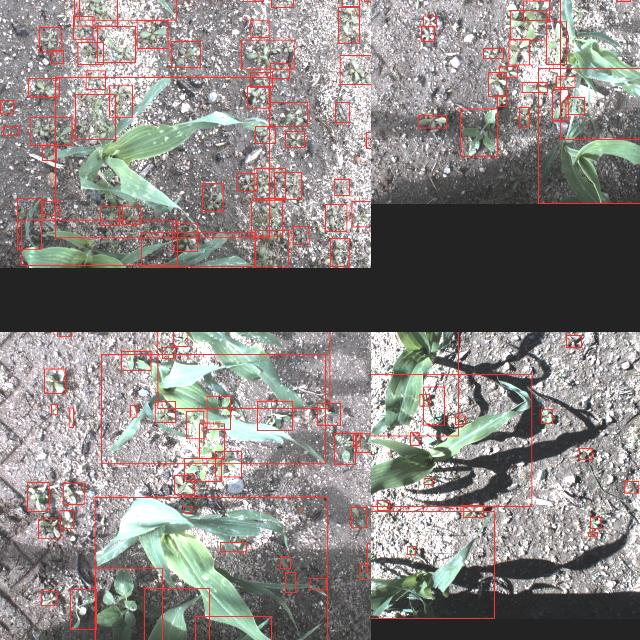crop: (55, 76, 269, 238), (95, 496, 327, 640), (101, 353, 325, 463), (371, 374, 531, 506), (538, 68, 640, 203), (371, 510, 494, 617), (158, 332, 330, 407), (560, 0, 640, 138), (371, 332, 458, 435), (21, 219, 177, 265), (142, 232, 255, 266), (144, 587, 210, 640), (79, 0, 176, 19), (195, 616, 271, 640), (17, 198, 41, 248)
weed: (95, 567, 162, 640), (460, 108, 498, 156), (75, 94, 115, 138), (242, 40, 294, 68), (97, 26, 135, 62), (30, 117, 72, 145), (256, 230, 288, 266), (252, 200, 282, 236), (511, 10, 547, 40), (74, 0, 117, 25), (70, 589, 96, 629), (258, 400, 292, 430), (254, 168, 286, 198), (268, 102, 308, 126), (340, 54, 371, 83), (136, 20, 168, 48), (546, 21, 566, 64), (184, 458, 222, 480), (207, 395, 231, 429), (200, 424, 224, 458), (274, 172, 302, 200), (424, 386, 444, 424), (338, 6, 359, 42), (172, 223, 198, 251), (172, 41, 200, 67), (110, 85, 132, 116), (334, 432, 356, 463), (27, 482, 49, 511), (215, 452, 241, 476), (121, 350, 151, 370), (325, 203, 347, 230), (39, 26, 61, 52), (78, 42, 104, 64), (508, 38, 530, 64), (29, 77, 59, 96), (203, 183, 223, 211), (330, 238, 350, 266), (44, 368, 66, 392), (351, 201, 371, 227), (523, 0, 549, 20), (186, 410, 204, 438), (248, 86, 270, 108), (318, 403, 340, 425), (552, 90, 568, 120), (62, 482, 84, 503), (488, 72, 507, 96), (73, 16, 93, 38), (38, 518, 60, 538), (155, 401, 175, 422), (86, 70, 106, 90), (100, 205, 120, 225), (237, 173, 257, 191), (255, 126, 275, 144), (174, 476, 194, 494), (418, 115, 447, 127), (122, 206, 140, 224), (566, 96, 584, 114), (285, 131, 305, 147), (270, 62, 290, 78), (250, 72, 272, 86), (251, 19, 269, 36), (352, 507, 366, 528), (293, 226, 309, 244), (356, 432, 371, 451), (335, 102, 349, 122), (42, 200, 59, 216), (220, 542, 247, 552), (334, 179, 350, 195), (41, 590, 57, 606), (522, 82, 546, 92), (463, 505, 483, 517), (59, 510, 72, 528), (42, 144, 56, 160), (556, 76, 574, 88), (483, 48, 503, 58), (519, 107, 529, 127), (286, 572, 296, 592), (0, 100, 14, 114), (173, 332, 188, 345), (310, 578, 326, 590), (566, 335, 582, 347), (499, 66, 517, 76), (359, 564, 371, 579), (51, 49, 63, 63), (422, 26, 434, 40), (625, 481, 639, 493), (3, 126, 19, 136), (162, 347, 175, 358), (578, 448, 592, 458), (542, 408, 552, 422), (424, 16, 436, 27), (68, 407, 74, 427), (280, 556, 290, 568), (590, 518, 602, 528), (377, 500, 389, 510), (410, 432, 420, 444), (420, 393, 430, 405), (498, 94, 507, 106), (342, 0, 359, 6), (455, 414, 465, 424), (354, 432, 361, 446), (130, 404, 138, 416), (366, 132, 371, 148), (407, 546, 415, 554), (51, 404, 57, 414), (423, 478, 432, 484), (184, 506, 192, 512), (58, 332, 72, 335), (588, 532, 598, 536)
